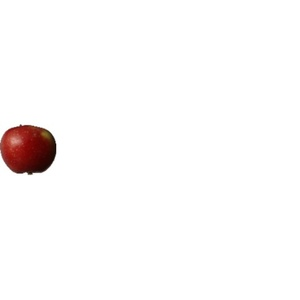maçã braeburn: (1, 123, 57, 175)
